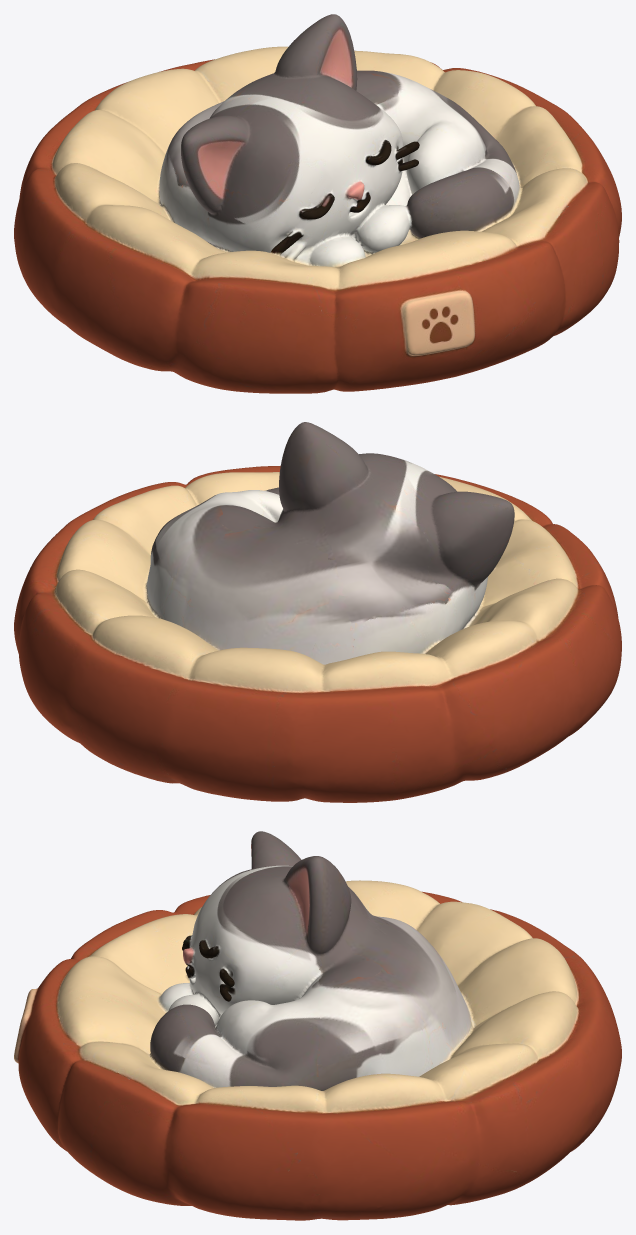
The model's file is gray-catnap.glb.
3 renders of one model, top to bottom at view 1: azimuth 30°, elevation 25°; view 2: azimuth 150°, elevation 25°; view 3: azimuth 270°, elevation 25°, orthographic.
Bounding box in the file's own units: 1.88 × 0.8953 × 1.9.
1 material, 1 textured.
